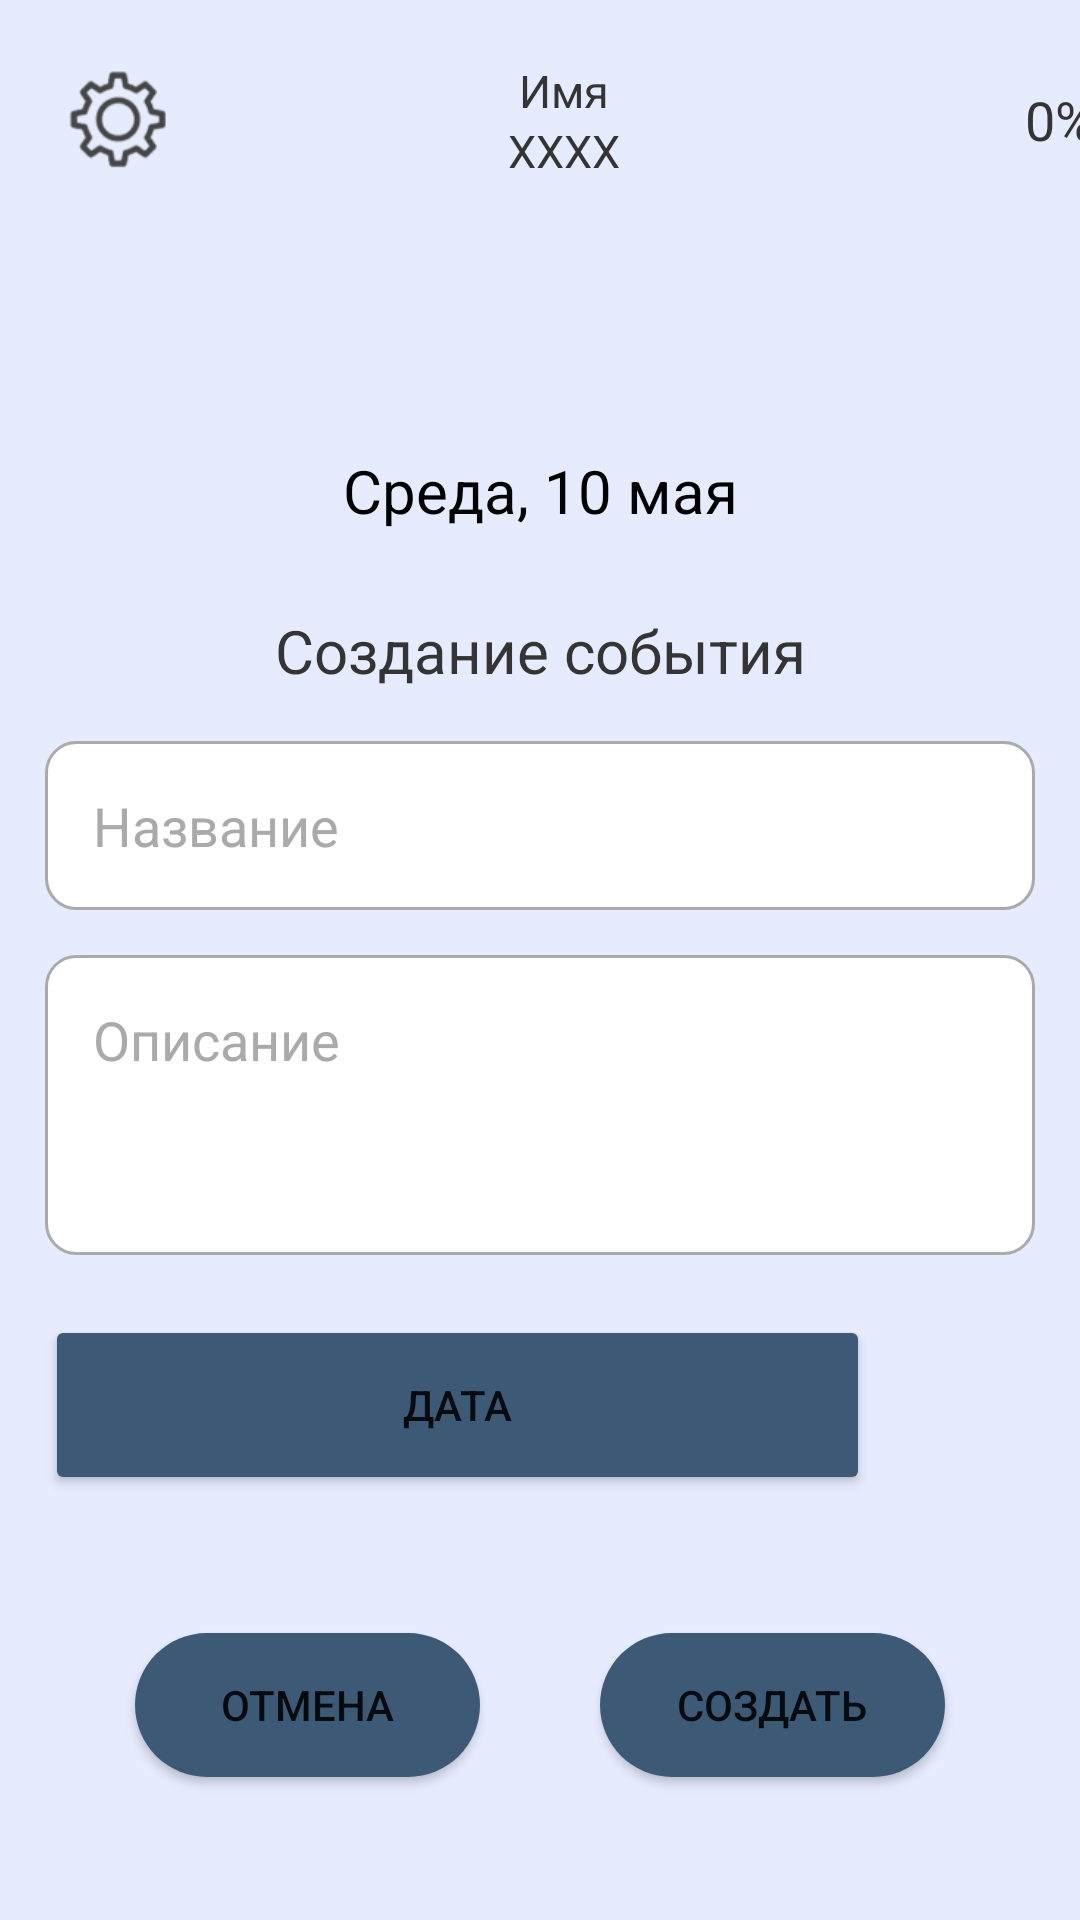

Named icons in this screenshot (1080px x 1920px) and their centers, (x=x, y=y):
settings: (x=118, y=119)
